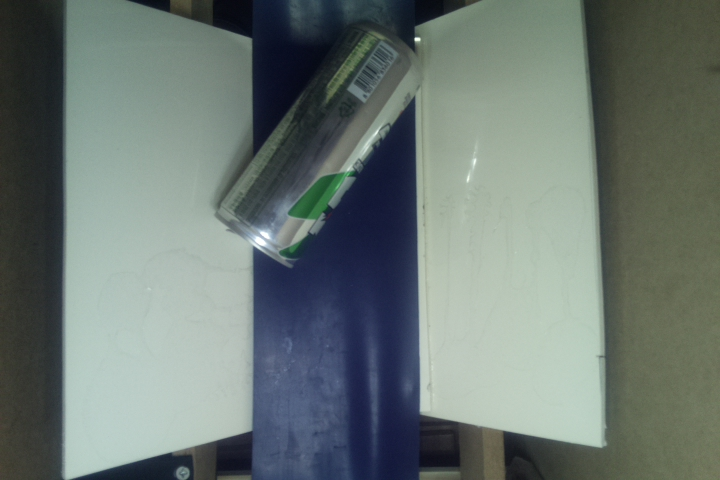can: (220, 20, 425, 272)
